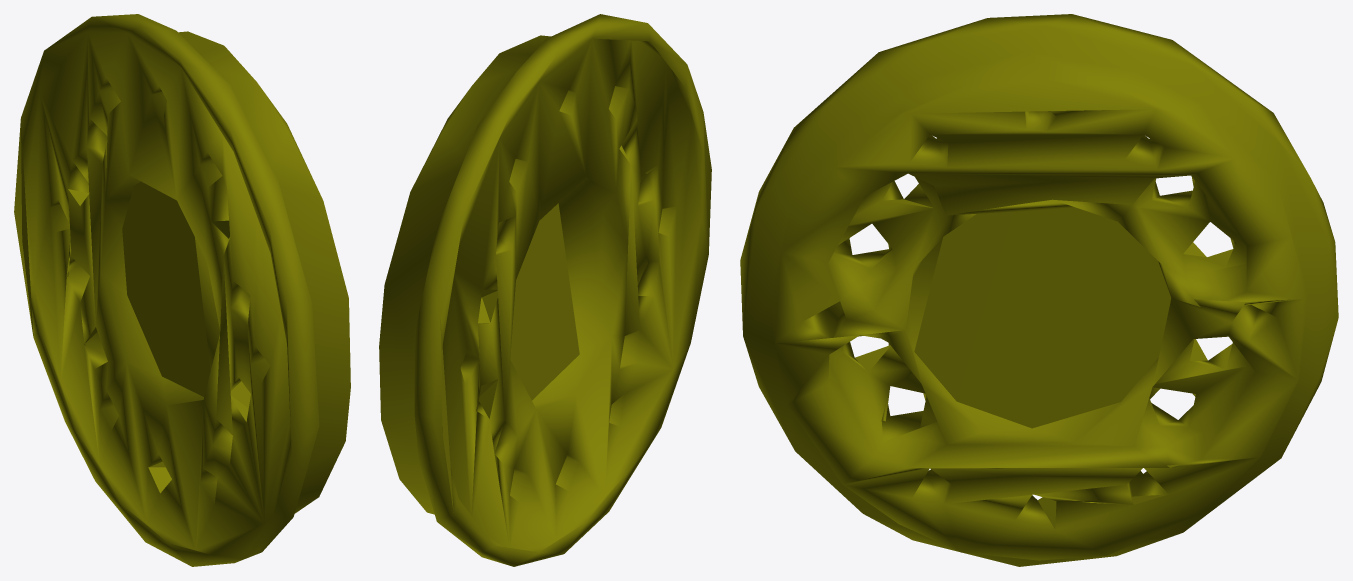
3 views of the same model, side by side, from view 1: azimuth 30°, elevation 25°; view 2: azimuth 150°, elevation 25°; view 3: azimuth 270°, elevation 25° (orthographic). The views are drawn at different scales.
Parts seen in each view (by area): view 1: mh50-35_lk6; view 2: mh50-35_lk6; view 3: mh50-35_lk6.
Part boxes in pixels (<box>): mh50-35_lk6: <box>14,14,350,566</box>; mh50-35_lk6: <box>379,14,711,566</box>; mh50-35_lk6: <box>740,14,1338,566</box>.
Size of the model in its own units: 0.0173 by 0.1123 by 0.1122.
